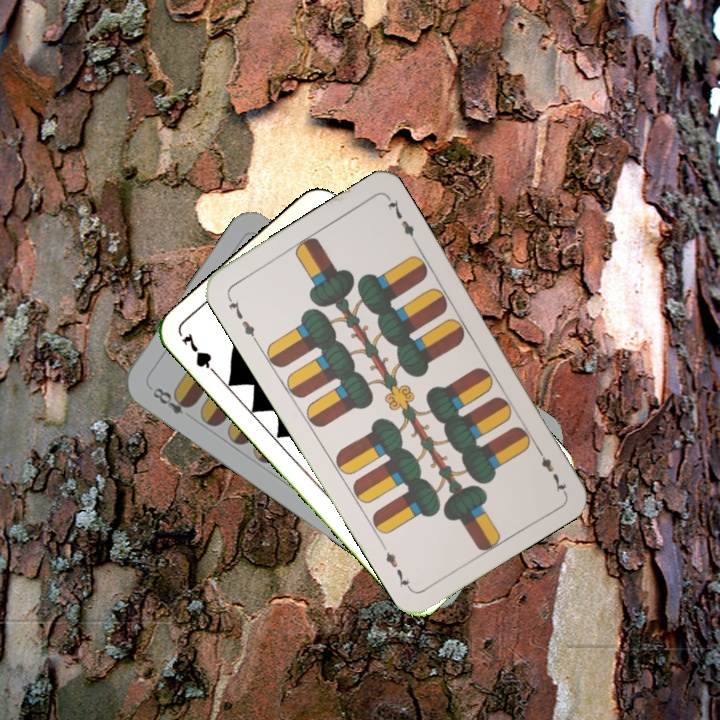E7: (531, 442, 569, 495), (223, 292, 260, 345)
E8: (145, 382, 196, 417)
G7: (178, 329, 222, 381)
